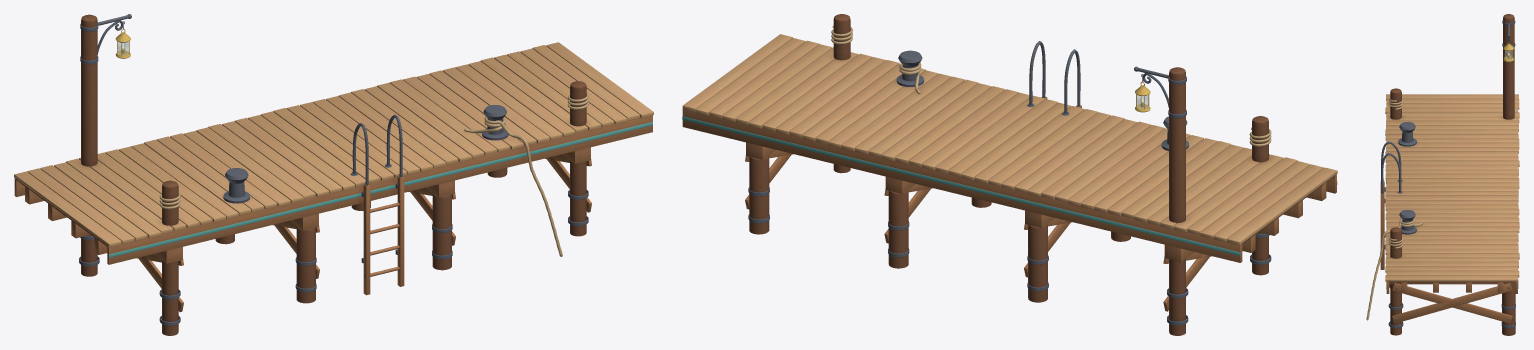
File: wooden-pier.glb
3 renders of one model, left to right at view 1: azimuth 30°, elevation 25°; view 2: azimuth 150°, elevation 25°; view 3: azimuth 270°, elevation 25°, orthographic. The views are drawn at different scales.
Parts seen in each view (by area): view 1: wooden-pier_body; view 2: wooden-pier_body; view 3: wooden-pier_body.
Boxes of the visible parts, box(x1,y1,x2,y2) form: wooden-pier_body: box(14, 14, 653, 335); wooden-pier_body: box(682, 14, 1337, 335); wooden-pier_body: box(1366, 14, 1519, 335).
Size of the model in its own units: 8 by 3.6 by 2.8.
Materials: 4 (1 with a texture image).
